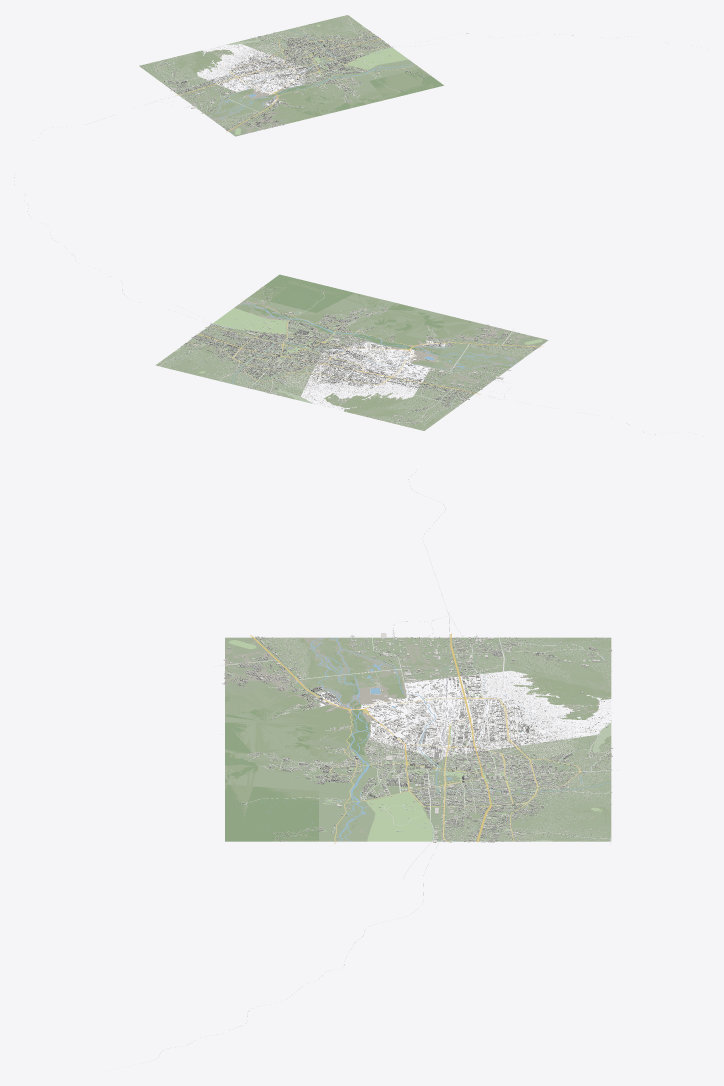
Rendered from city.glb.
3 views of the same model, one above another, from view 1: azimuth 30°, elevation 25°; view 2: azimuth 150°, elevation 25°; view 3: azimuth 270°, elevation 25° (orthographic). The views are drawn at different scales.
Visible parts, largest first — view 1: Cover, Buildings, BuildingsFlat, Green, RoadsMinor, RoadsMajor, Water; view 2: Cover, Buildings, RoadsMinor, BuildingsFlat, Green, RoadsMajor, Water; view 3: Cover, Buildings, RoadsMinor, BuildingsFlat, Green, RoadsMajor, Water.
Part boxes in pixels (bbox=[...]): Cover: bbox=[139, 15, 443, 136]; Buildings: bbox=[141, 15, 430, 132]; BuildingsFlat: bbox=[141, 16, 385, 127]; Green: bbox=[182, 24, 409, 134]; RoadsMinor: bbox=[155, 15, 436, 131]; RoadsMajor: bbox=[174, 32, 417, 132]; Water: bbox=[149, 29, 423, 119]; Cover: bbox=[155, 274, 548, 430]; Buildings: bbox=[156, 287, 539, 430]; RoadsMinor: bbox=[152, 292, 513, 422]; BuildingsFlat: bbox=[161, 308, 532, 427]; Green: bbox=[174, 300, 542, 404]; RoadsMajor: bbox=[187, 299, 543, 394]; Water: bbox=[203, 296, 516, 426]; Cover: bbox=[225, 637, 611, 841]; Buildings: bbox=[222, 633, 612, 842]; RoadsMinor: bbox=[213, 634, 619, 879]; BuildingsFlat: bbox=[224, 637, 611, 841]; Green: bbox=[226, 639, 611, 841]; RoadsMajor: bbox=[250, 633, 581, 843]; Water: bbox=[225, 637, 610, 841].
Size of the model in its own units: 36933 by 135 by 13333.
